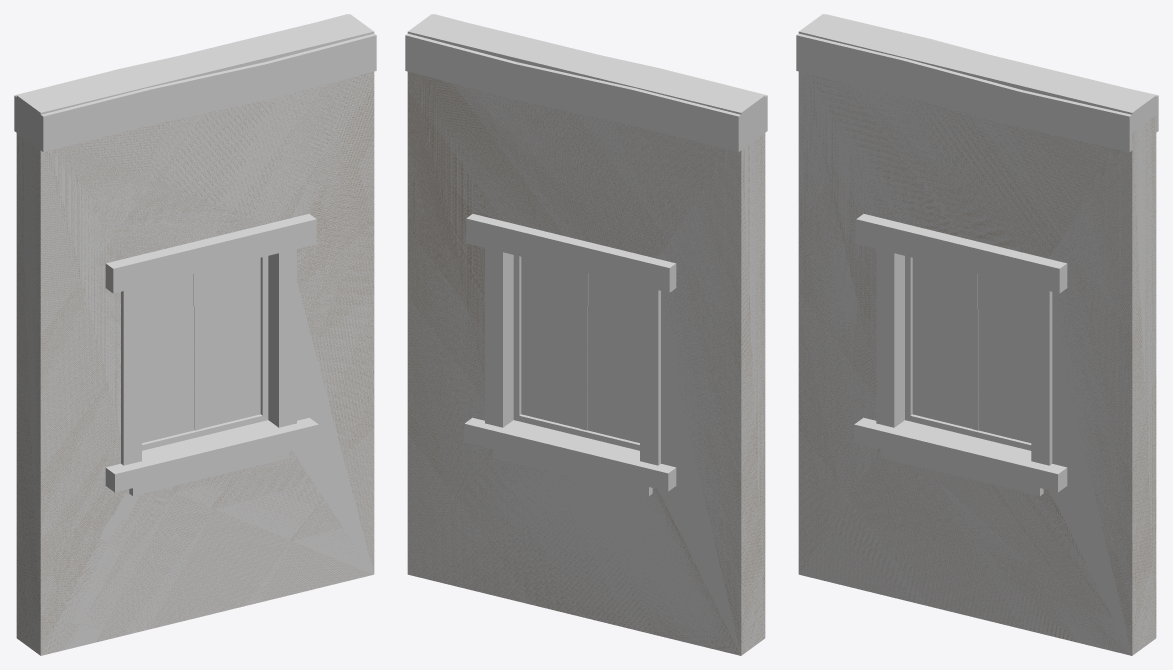
Rendered from Wall_Window_1.fbx.
The picture shows the model from 3 angles, left to right: view 1: azimuth 30°, elevation 25°; view 2: azimuth 150°, elevation 25°; view 3: azimuth 330°, elevation 25°; orthographic projection.
Visible parts, largest first — view 1: Wall_Window_1_COL0, Wall_Window_1_LOD0; view 2: Wall_Window_1_COL0, Wall_Window_1_LOD0; view 3: Wall_Window_1_COL0, Wall_Window_1_LOD0.
Boxes of the visible parts, x1,y1,x2,y2 form: Wall_Window_1_COL0: [16, 14, 374, 655]; Wall_Window_1_LOD0: [14, 14, 376, 655]; Wall_Window_1_COL0: [407, 14, 765, 655]; Wall_Window_1_LOD0: [405, 14, 767, 654]; Wall_Window_1_COL0: [798, 14, 1156, 655]; Wall_Window_1_LOD0: [796, 14, 1158, 655].
Size of what is drawn, in the model's own units: 200 by 311 by 43.14.
